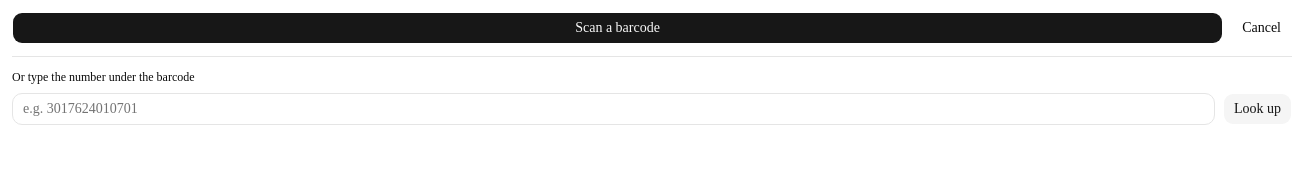
Test: manual barcode entry › clears the complaint as soon as the number is being corrected
Type "12" into the field labelled "Or type the number under the barcode" at (613, 109), box [12,93,1215,125]
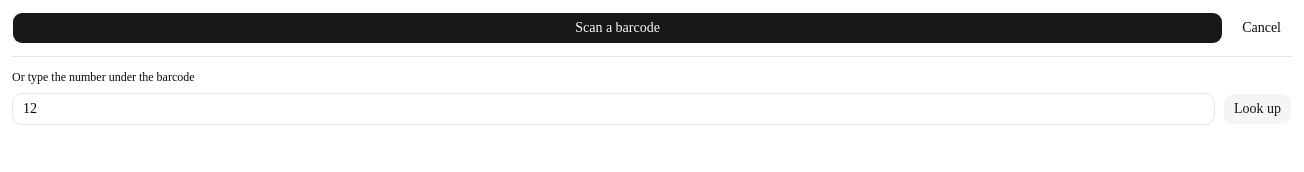
Click the button "Look up" at (1257, 109), box [1223,93,1292,125]
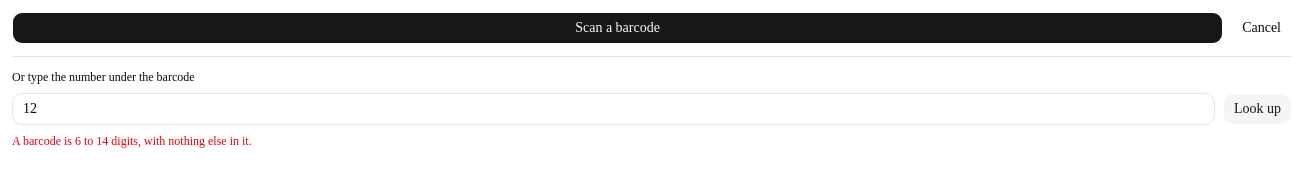
Now the text "A barcode is 6 to 14 digits, with nothing else in it." is shown, box [12,134,252,148]
Replace the text in the field labelled "Or type the number under the barcode" with "123456" at (613, 109), box [12,93,1215,125]
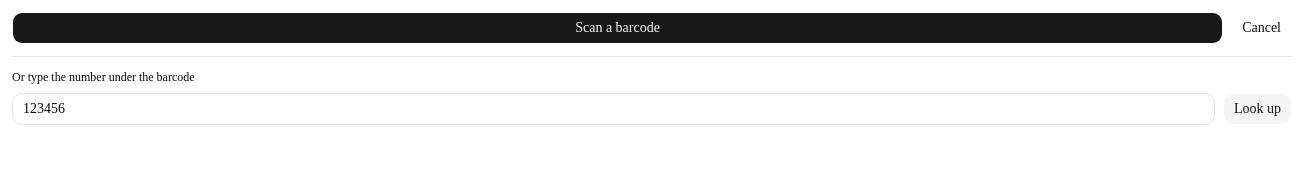
Now the text "6 to 14 digits" is gone
